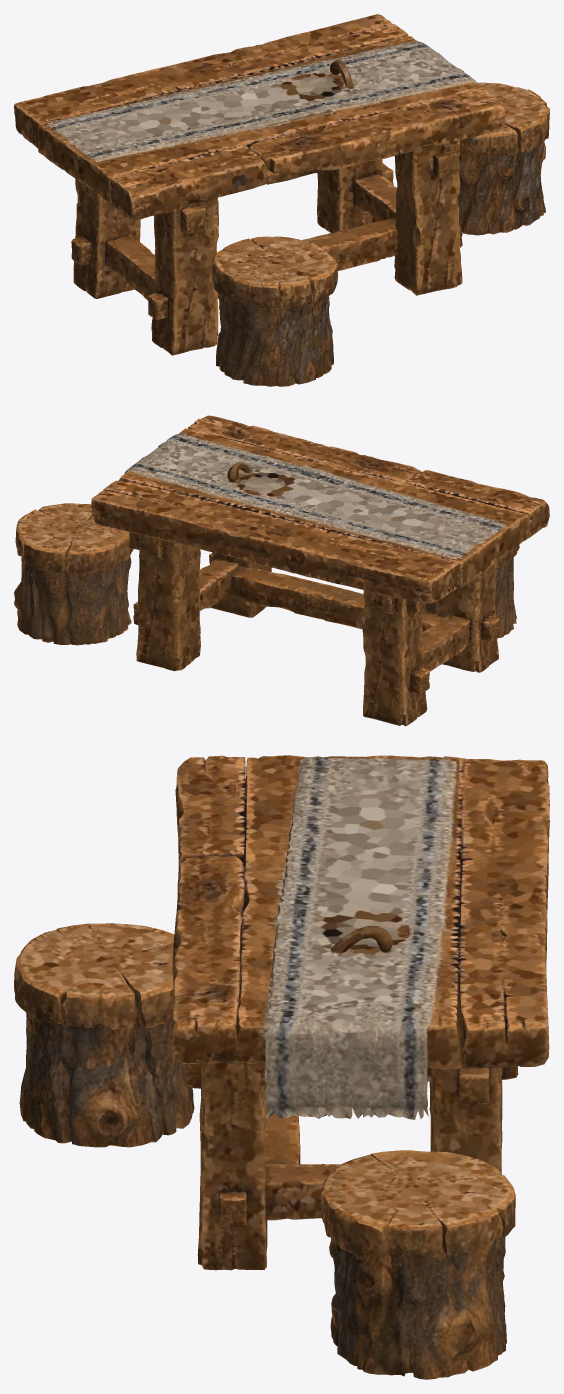
File: table_stools_lite.glb
3 renders of one model, top to bottom at view 1: azimuth 30°, elevation 25°; view 2: azimuth 150°, elevation 25°; view 3: azimuth 270°, elevation 25°, orthographic. The views are drawn at different scales.
Parts seen in each view (by area): view 1: geometry_0; view 2: geometry_0; view 3: geometry_0.
Boxes of the visible parts, x1,y1,x2,y2 form: geometry_0: [14, 14, 549, 386]; geometry_0: [14, 415, 549, 726]; geometry_0: [14, 755, 549, 1379].
Size of the model in its own units: 1.9 by 0.7416 by 1.21.
Materials: 1 (1 with a texture image).
